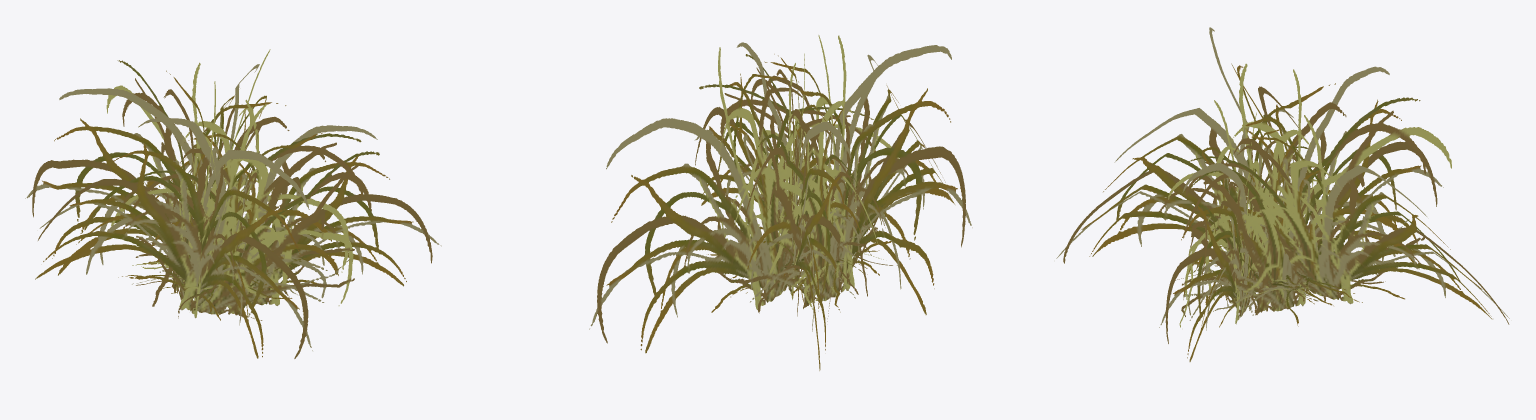
File: grass_dry.glb
The picture shows the model from 3 angles, left to right: view 1: azimuth 30°, elevation 25°; view 2: azimuth 150°, elevation 25°; view 3: azimuth 270°, elevation 25°; orthographic projection. The views are drawn at different scales.
Visible parts, largest first — view 1: Grass main dry_Grass_Mat_0; view 2: Grass main dry_Grass_Mat_0; view 3: Grass main dry_Grass_Mat_0.
Boxes of the visible parts, x1,y1,x2,y2 form: Grass main dry_Grass_Mat_0: (25, 49, 441, 358); Grass main dry_Grass_Mat_0: (589, 35, 972, 370); Grass main dry_Grass_Mat_0: (1056, 27, 1509, 361).
Size of the model in its own units: 1.36 by 1 by 1.64.
Materials: 1 (1 with a texture image).
